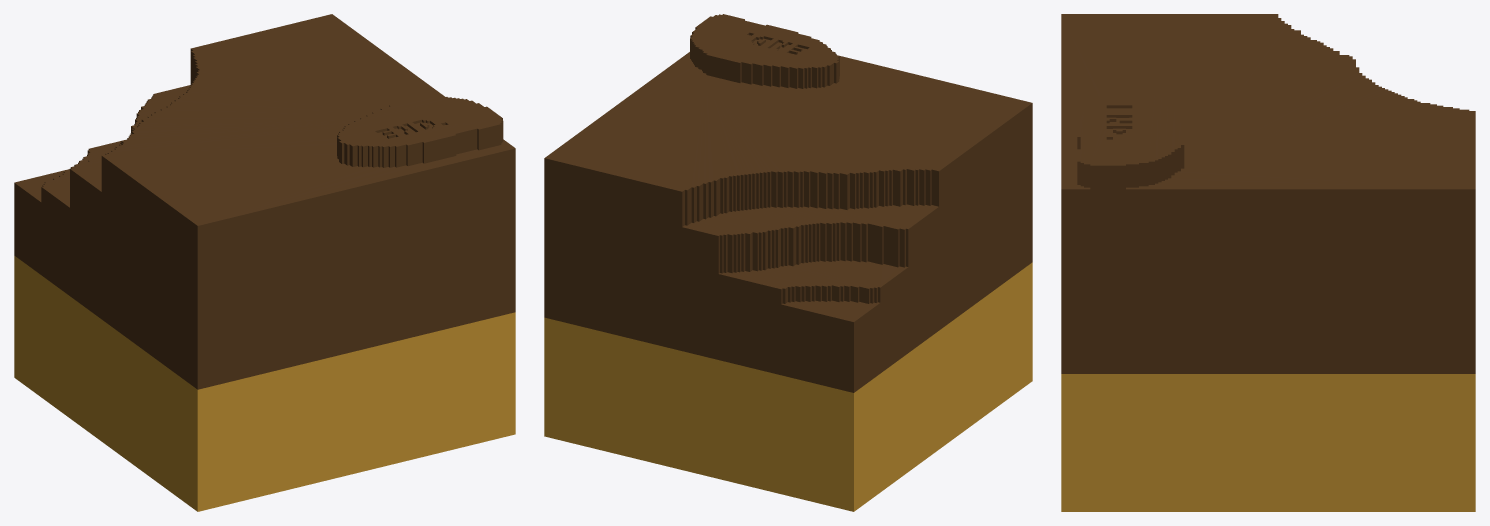
3 views of the same model, side by side, from view 1: azimuth 30°, elevation 25°; view 2: azimuth 150°, elevation 25°; view 3: azimuth 270°, elevation 25° (orthographic). The views are drawn at different scales.
Visible parts, largest first — view 1: 16P; view 2: 16P; view 3: 16P.
Part boxes in pixels (left/top/right/bottom): 16P: left=14, top=14, right=515, bottom=511; 16P: left=544, top=14, right=1032, bottom=511; 16P: left=1061, top=14, right=1475, bottom=511.
Size of the model in its own units: 12.8 by 11.8 by 12.8.
1 material, 1 textured.
